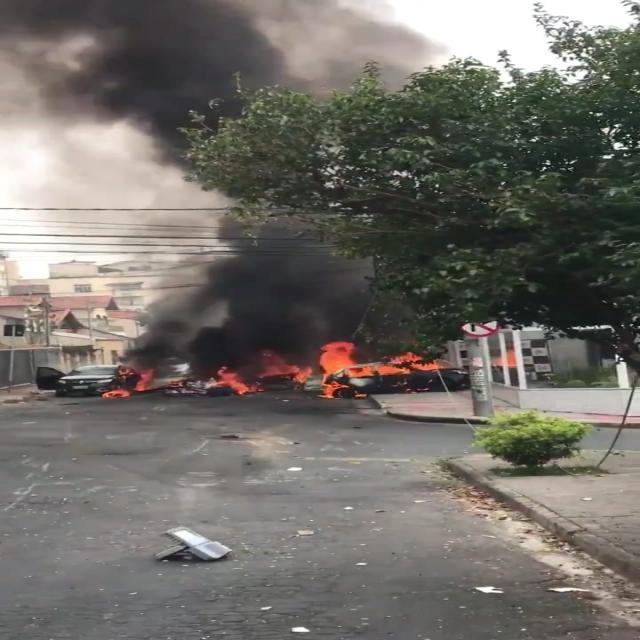Fire: (213, 360, 270, 400), (314, 342, 368, 384)
Smoke: (29, 6, 270, 84), (205, 255, 352, 332)
